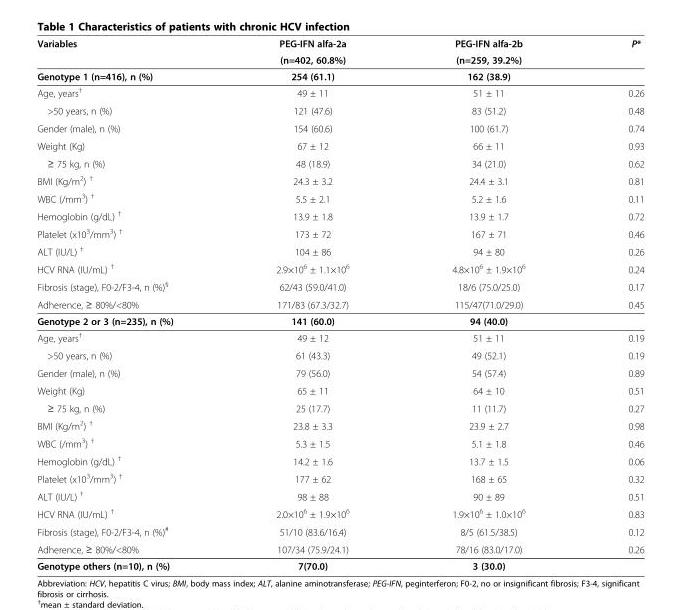table: (36, 37, 643, 571)
table column: (36, 37, 224, 571), (224, 37, 400, 571), (400, 37, 575, 571), (575, 37, 643, 571)
table column header: (36, 37, 643, 83)
table row: (36, 83, 643, 101), (36, 101, 643, 119), (36, 136, 643, 154), (36, 171, 643, 189), (36, 206, 643, 224), (36, 241, 643, 259), (36, 259, 643, 277), (36, 277, 643, 295), (36, 328, 643, 346), (36, 346, 643, 364), (36, 381, 643, 399), (36, 433, 643, 451), (36, 451, 643, 469), (36, 486, 643, 504), (36, 504, 643, 522), (36, 522, 643, 540), (36, 119, 643, 136), (36, 154, 643, 171), (36, 189, 643, 206), (36, 224, 643, 241), (36, 295, 643, 312), (36, 364, 643, 381), (36, 399, 643, 416), (36, 416, 643, 433), (36, 469, 643, 486), (36, 540, 643, 557), (36, 51, 643, 67), (36, 67, 643, 83), (36, 312, 643, 328), (36, 37, 643, 51), (36, 557, 643, 571)
table spanning cell: (36, 37, 224, 83), (224, 37, 400, 83), (400, 37, 575, 83), (575, 37, 643, 83)
